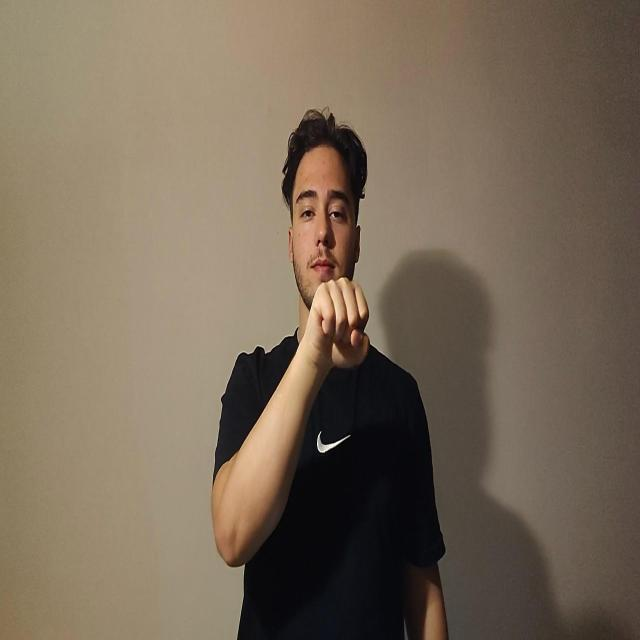yes: (305, 276, 370, 372)
